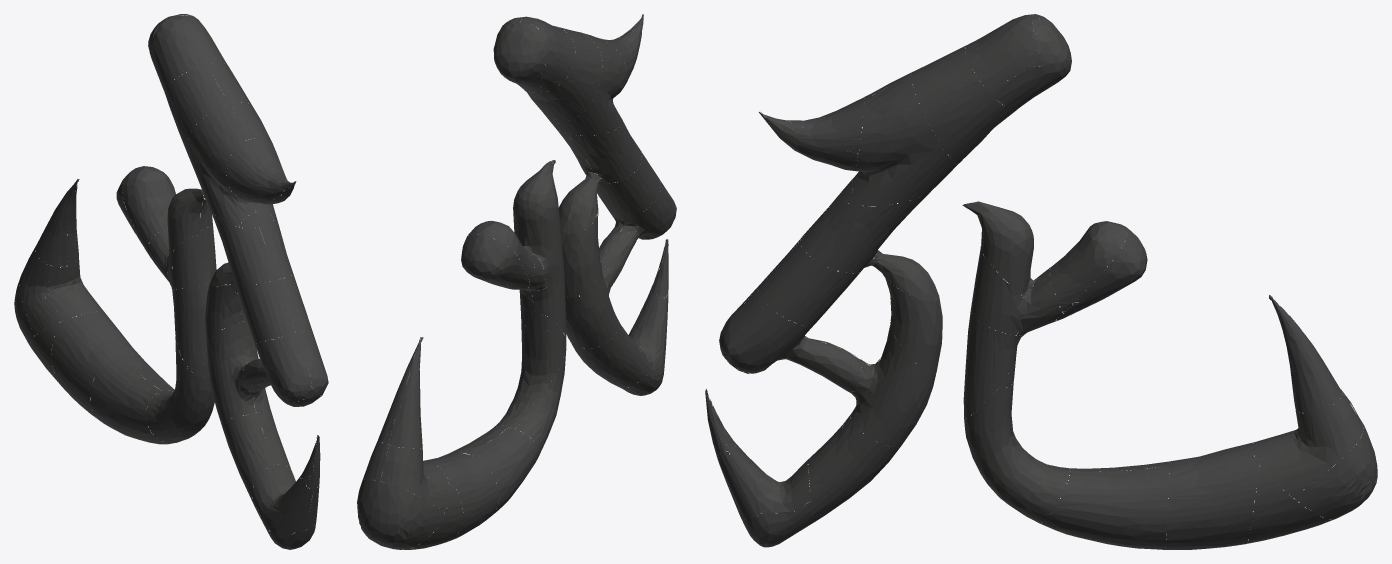
The picture shows the model from 3 angles, left to right: view 1: azimuth 30°, elevation 25°; view 2: azimuth 150°, elevation 25°; view 3: azimuth 270°, elevation 25°; orthographic projection. The views are drawn at different scales.
Parts seen in each view (by area): view 1: tripo_node_cd29aa6c-2ae7-4075-9123-0eafd1a4205a; view 2: tripo_node_cd29aa6c-2ae7-4075-9123-0eafd1a4205a; view 3: tripo_node_cd29aa6c-2ae7-4075-9123-0eafd1a4205a.
Part boxes in pixels (box(x1,y1,x2,y2)): tripo_node_cd29aa6c-2ae7-4075-9123-0eafd1a4205a: box(14, 14, 328, 549); tripo_node_cd29aa6c-2ae7-4075-9123-0eafd1a4205a: box(357, 14, 676, 549); tripo_node_cd29aa6c-2ae7-4075-9123-0eafd1a4205a: box(705, 14, 1377, 549).
Size of the model in its own units: 0.1343 by 0.8661 by 1.
Materials: 1 (1 with a texture image).
